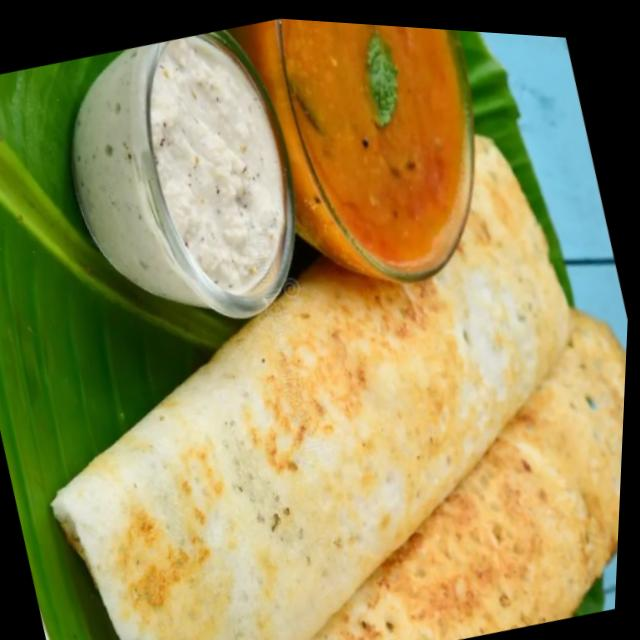DOSA: (46, 132, 626, 640)
SAMBAR: (229, 19, 473, 283)
WHITE CHUTNEY: (67, 30, 293, 321)
